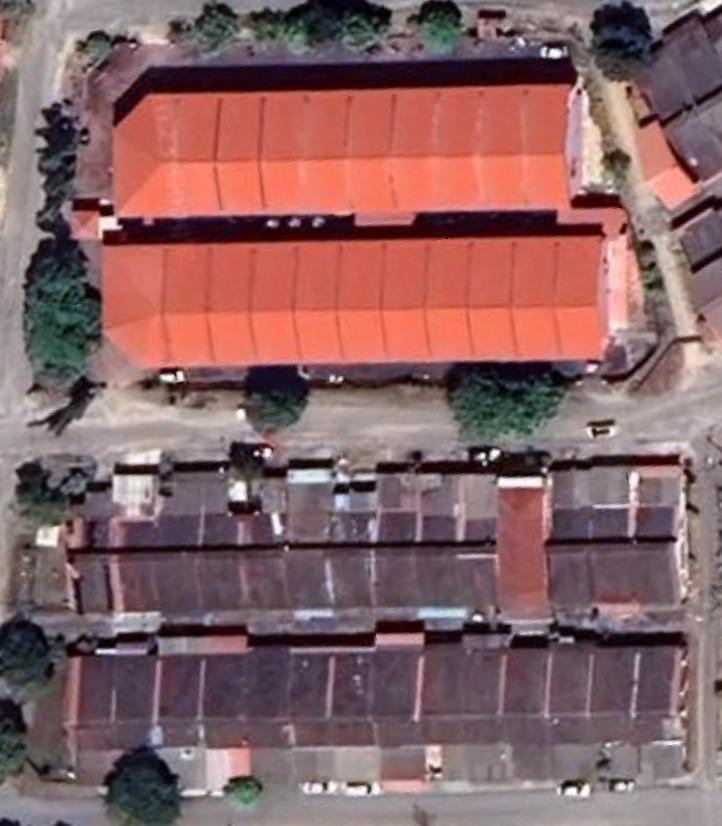building: (91, 238, 179, 377), (25, 638, 110, 772), (103, 87, 183, 224), (496, 473, 553, 627), (62, 505, 129, 623), (299, 234, 356, 372), (173, 87, 230, 224), (483, 78, 537, 220), (308, 83, 362, 224), (257, 234, 311, 375), (431, 234, 485, 373), (356, 80, 407, 226), (363, 630, 424, 752), (222, 86, 276, 222), (388, 232, 439, 376), (441, 78, 493, 219), (267, 86, 320, 224), (398, 80, 449, 223), (346, 231, 396, 375), (517, 233, 569, 368), (172, 238, 222, 376), (563, 230, 612, 369), (476, 234, 525, 371), (530, 79, 578, 218), (547, 495, 601, 613), (627, 639, 686, 746), (148, 629, 198, 752), (409, 638, 463, 751), (279, 639, 330, 758), (192, 630, 241, 753), (494, 639, 548, 749), (218, 236, 261, 374), (583, 639, 636, 749), (596, 495, 643, 617), (639, 497, 688, 614), (204, 505, 255, 617), (105, 632, 149, 758), (247, 504, 297, 614), (324, 638, 371, 754), (541, 639, 590, 749), (291, 502, 339, 614), (238, 638, 282, 754), (339, 505, 386, 612), (381, 502, 427, 611), (424, 505, 472, 609), (163, 508, 209, 615), (455, 637, 497, 748), (124, 509, 166, 614), (467, 509, 497, 616)
